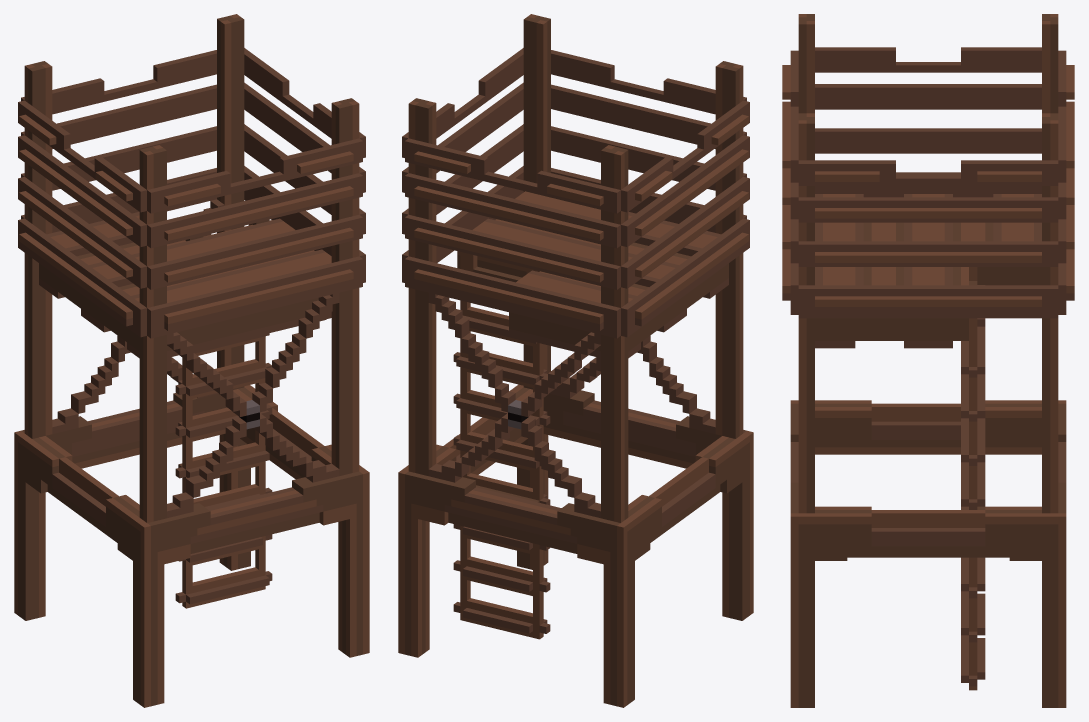
File: tower_archer.fbx
The picture shows the model from 3 angles, left to right: view 1: azimuth 30°, elevation 25°; view 2: azimuth 150°, elevation 25°; view 3: azimuth 270°, elevation 25°; orthographic projection. The views are drawn at different scales.
Visible parts, largest first — view 1: tower_archer; view 2: tower_archer; view 3: tower_archer.
Part boxes in pixels (left/top/right/bottom): tower_archer: left=14, top=14, right=369, bottom=707; tower_archer: left=398, top=14, right=753, bottom=707; tower_archer: left=782, top=14, right=1074, bottom=707.
Bounding box in the file's own units: 360 × 360 × 790.
